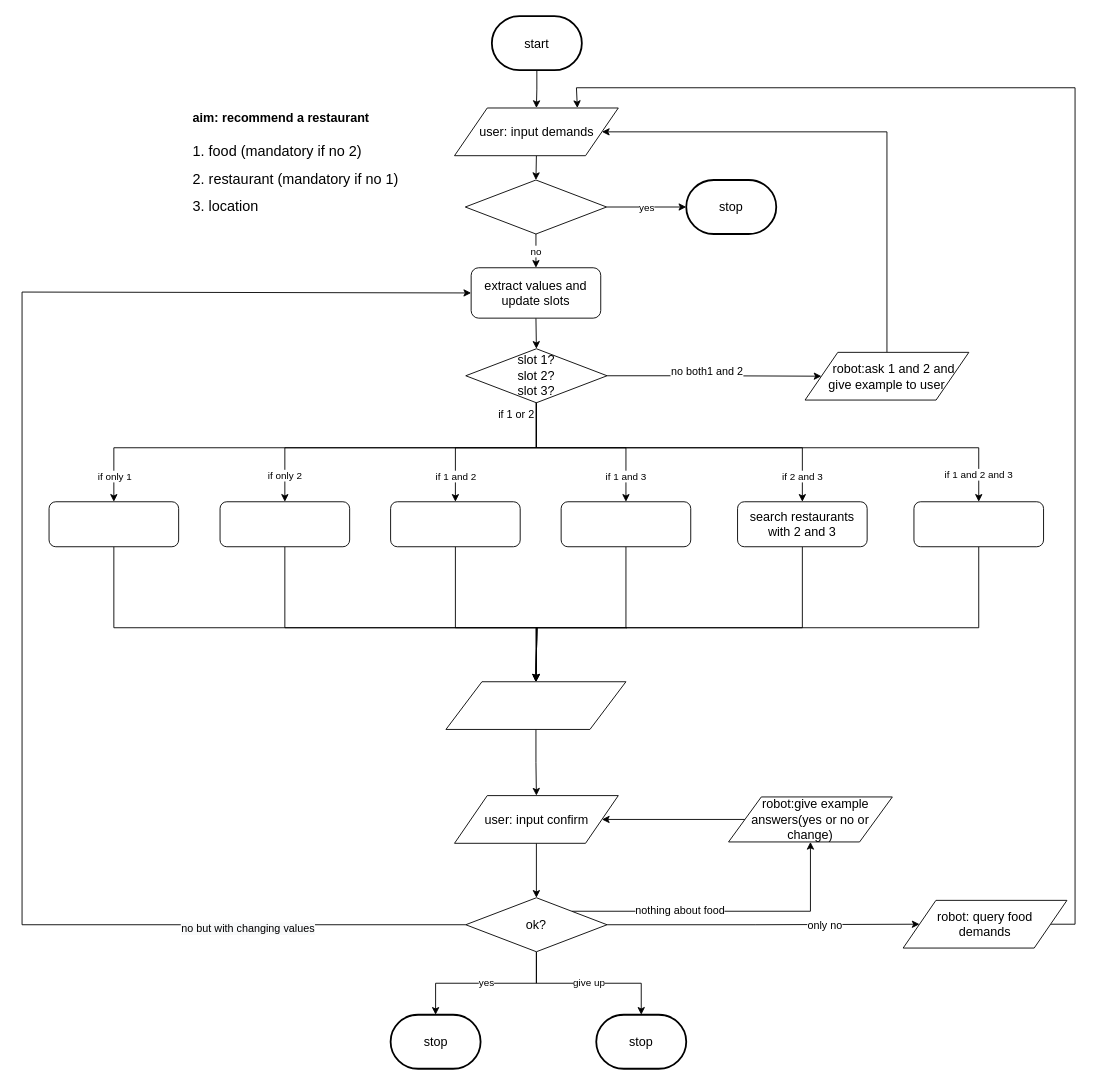
This 1098x1085 diagram has some shape labels left out. Each missing label, with the centre of its shape:
"give up?" goes at [535,206].
"robot:output restaurants list and confirm" goes at [535,705].
"search restaurants with 1" goes at [113,524].
"search restaurants with 1 and 2" goes at [455,524].
"search restaurants with 1 and 2 and 3" goes at [978,524].
"search restaurants with 1 and 3" goes at [625,524].
"search restaurants with 2" goes at [284,524].
